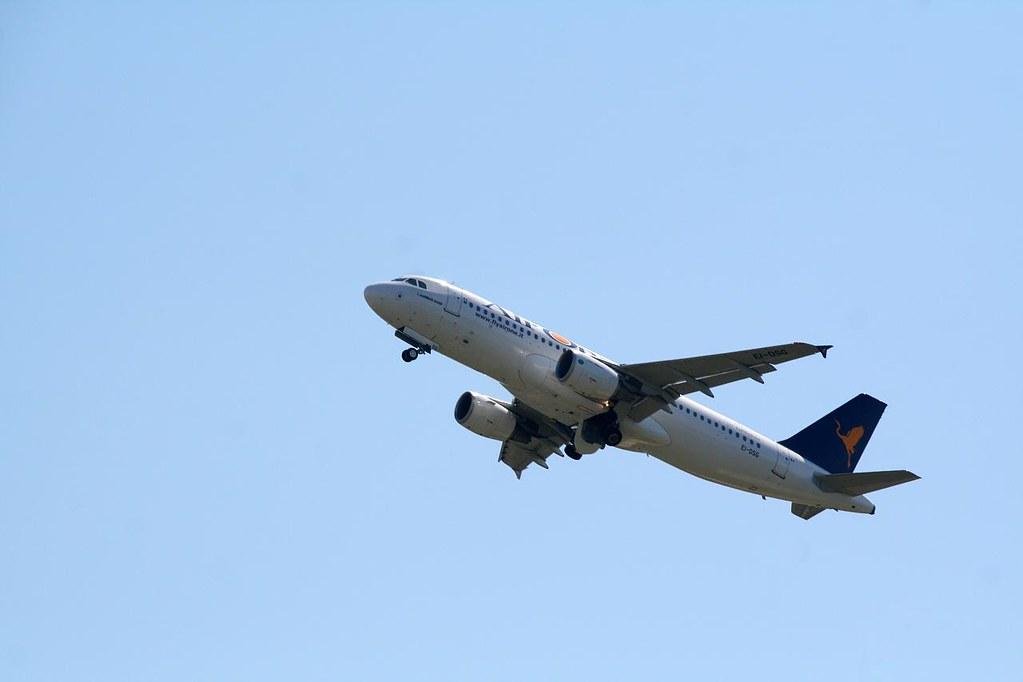plane: (363, 274, 922, 521)
